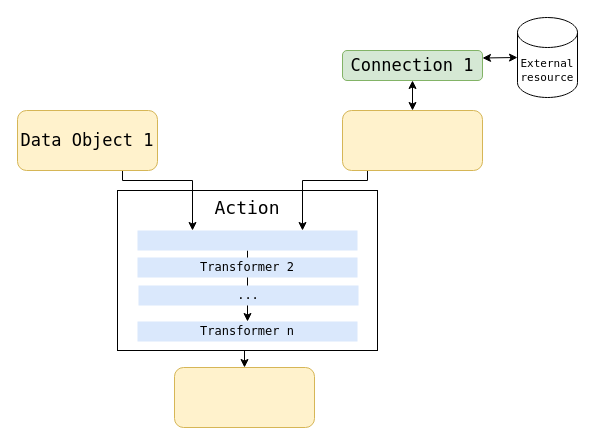
The diagram is 595 pixels wide and 445 high, and some of its shapes have lost their labels. The centre of each missing label's shape, as x and y in pixels:
"Data Object 2" belongs at (x=412, y=140).
"Data Object 3" belongs at (x=244, y=397).
"Transformer 1" belongs at (x=247, y=240).
